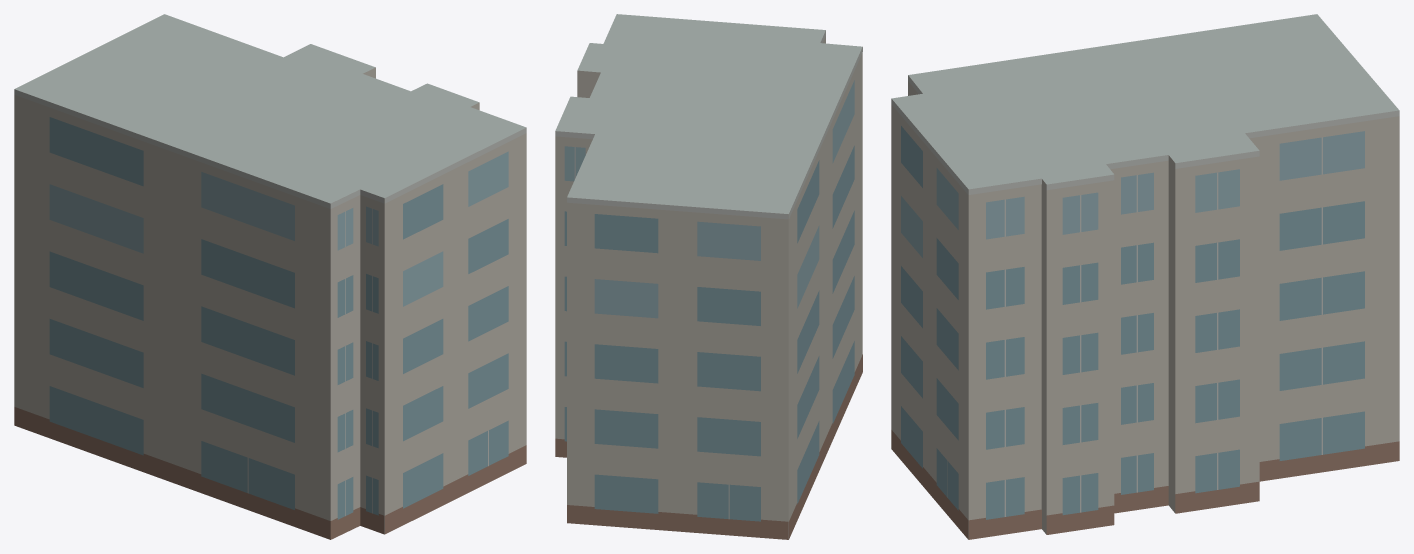
The model's file is survey-upis-32979955.glb.
The picture shows the model from 3 angles, left to right: view 1: azimuth 30°, elevation 25°; view 2: azimuth 150°, elevation 25°; view 3: azimuth 270°, elevation 25°; orthographic projection. The views are drawn at different scales.
Parts seen in each view (by area): view 1: survey-upis-32979955.tmp; view 2: survey-upis-32979955.tmp; view 3: survey-upis-32979955.tmp.
Part boxes in pixels (<box>): survey-upis-32979955.tmp: <box>14,14,526,539</box>; survey-upis-32979955.tmp: <box>555,14,862,539</box>; survey-upis-32979955.tmp: <box>891,14,1399,539</box>.
Bounding box in the file's own units: 16 × 14.9 × 19.59.
